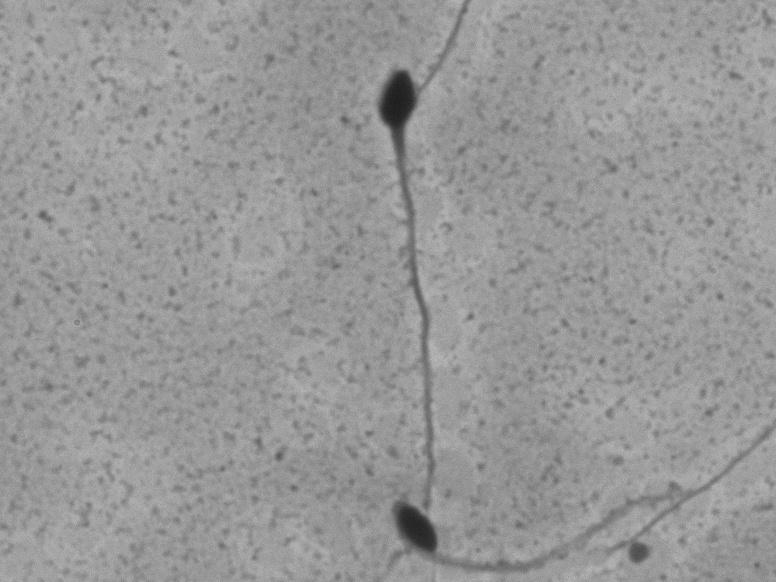Abnormal: (367, 55, 442, 518)
